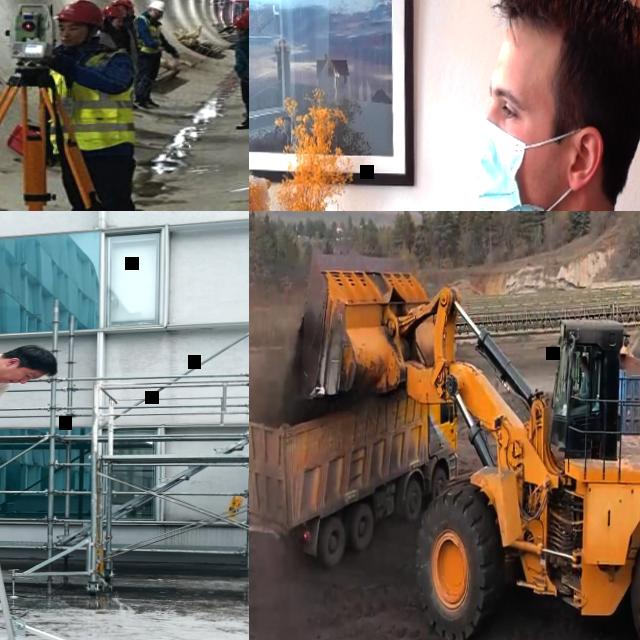Hardhat: (58, 0, 106, 27), (101, 5, 128, 18), (145, 0, 166, 11), (234, 14, 249, 27), (117, 0, 134, 6), (243, 4, 249, 14)
Mask: (472, 118, 585, 211), (154, 12, 164, 20)
NO-Hardhat: (496, 0, 640, 85), (16, 345, 59, 376), (582, 354, 590, 364)
NO-Mask: (0, 365, 19, 383), (60, 33, 84, 47), (113, 21, 121, 29), (237, 28, 244, 33), (582, 366, 586, 372)
NO-Safety Vest: (100, 27, 139, 70), (238, 32, 249, 80), (124, 18, 137, 39), (581, 371, 591, 393)
Person: (402, 0, 640, 211), (38, 0, 153, 211), (0, 342, 60, 464), (133, 0, 181, 108), (110, 0, 142, 110), (233, 12, 249, 127), (102, 6, 134, 52), (240, 4, 249, 116), (573, 353, 591, 405)
Safety Vest: (44, 44, 139, 157), (138, 13, 164, 51)
vehicle: (285, 247, 640, 640), (249, 349, 460, 573), (565, 326, 640, 441)
